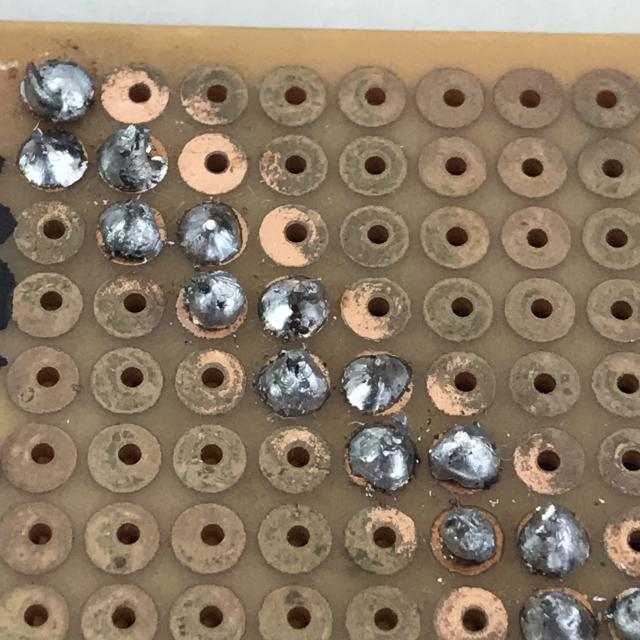pad_less: (426, 499, 514, 585), (250, 342, 339, 423), (337, 419, 426, 500), (171, 267, 257, 346), (92, 120, 176, 200), (167, 198, 257, 272), (336, 345, 421, 420), (89, 196, 174, 270)
